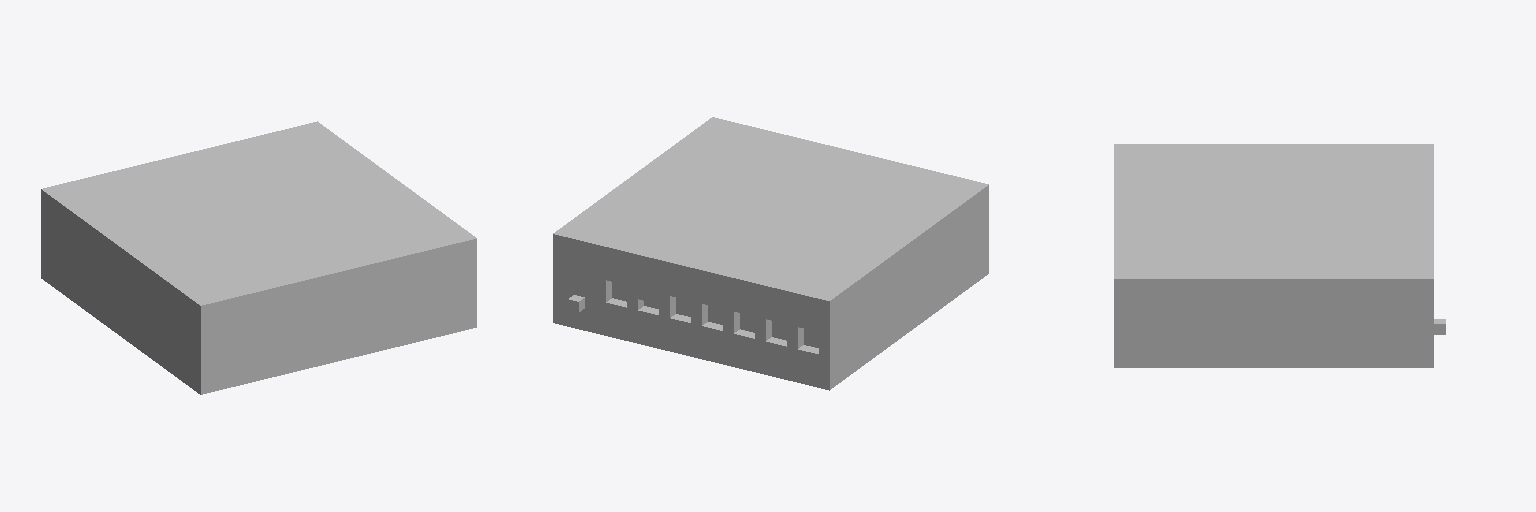
Rendered from cisco model 900.obj.
3 renders of one model, left to right at view 1: azimuth 30°, elevation 25°; view 2: azimuth 150°, elevation 25°; view 3: azimuth 270°, elevation 25°, orthographic.
Visible parts, largest first — view 1: object 1; view 2: object 1; view 3: object 1.
Part boxes in pixels (bbox=[...]): object 1: bbox=[41, 121, 476, 394]; object 1: bbox=[553, 117, 988, 390]; object 1: bbox=[1114, 144, 1445, 367].
Bounding box in the file's own units: 2.6 × 0.8 × 2.7.